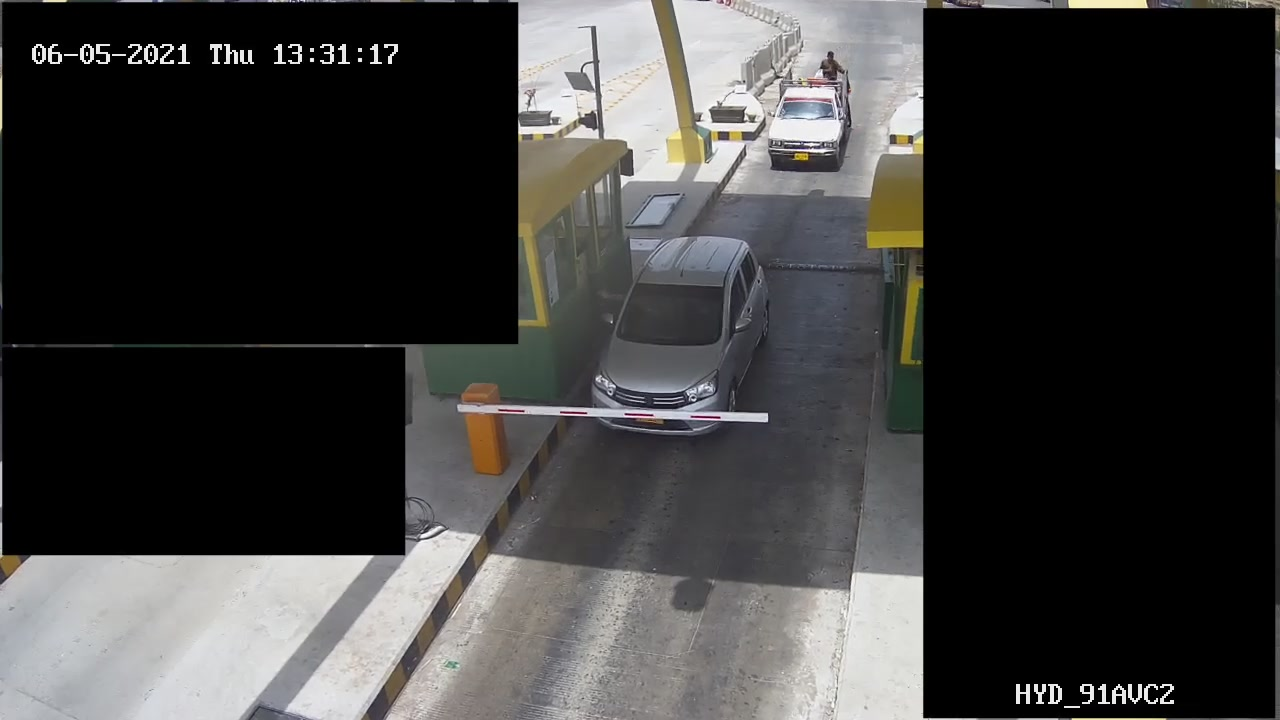F1: (582, 229, 776, 437), (765, 49, 862, 169)
